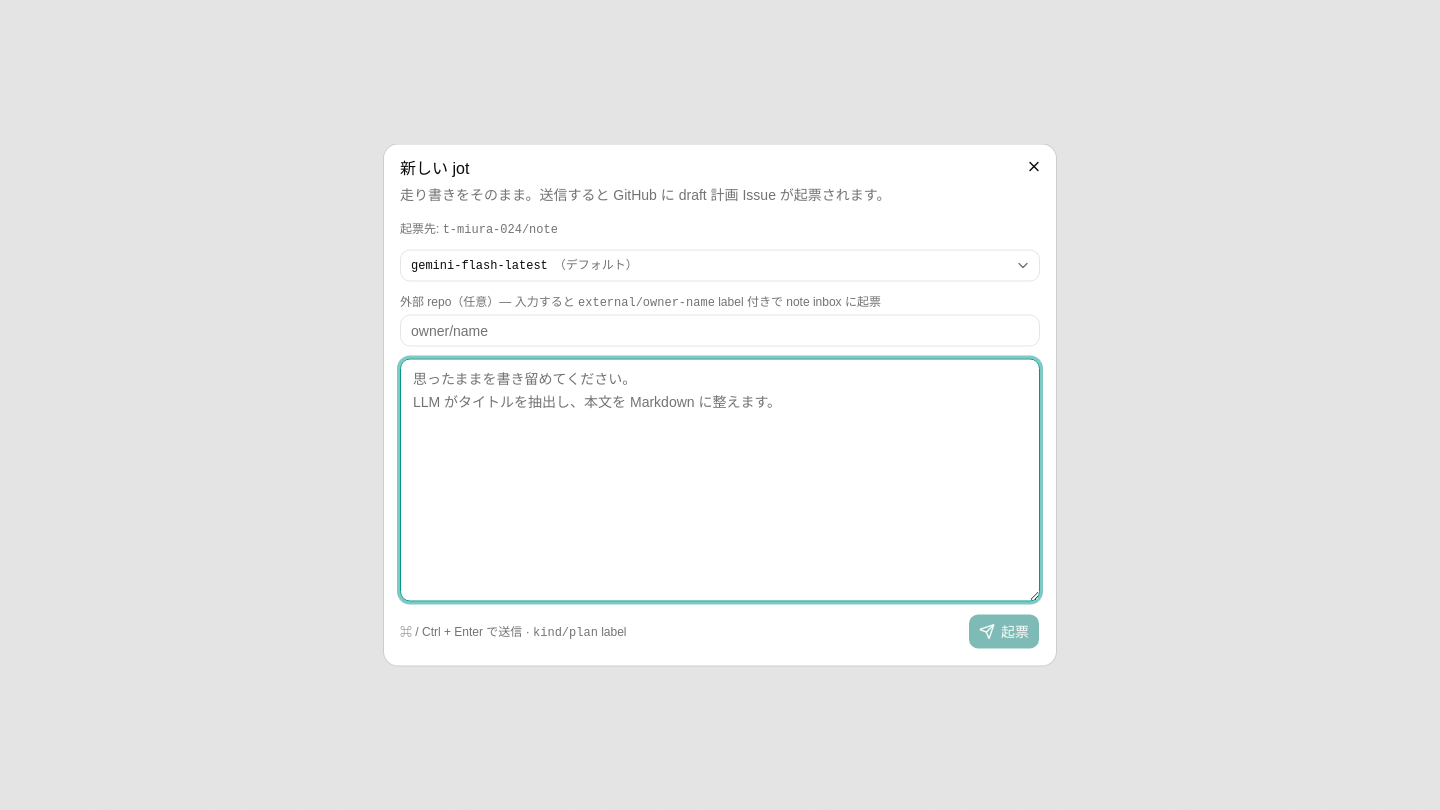
Test: JotDialog — 外部 repo 入力の表示条件 › note inbox + 有効な外部 repo 入力は external label 付きの表示になる
Type "other-org/some-repo" into the field named "外部 repo（owner/name 形式）" at (720, 330), box [400,314,1040,346]
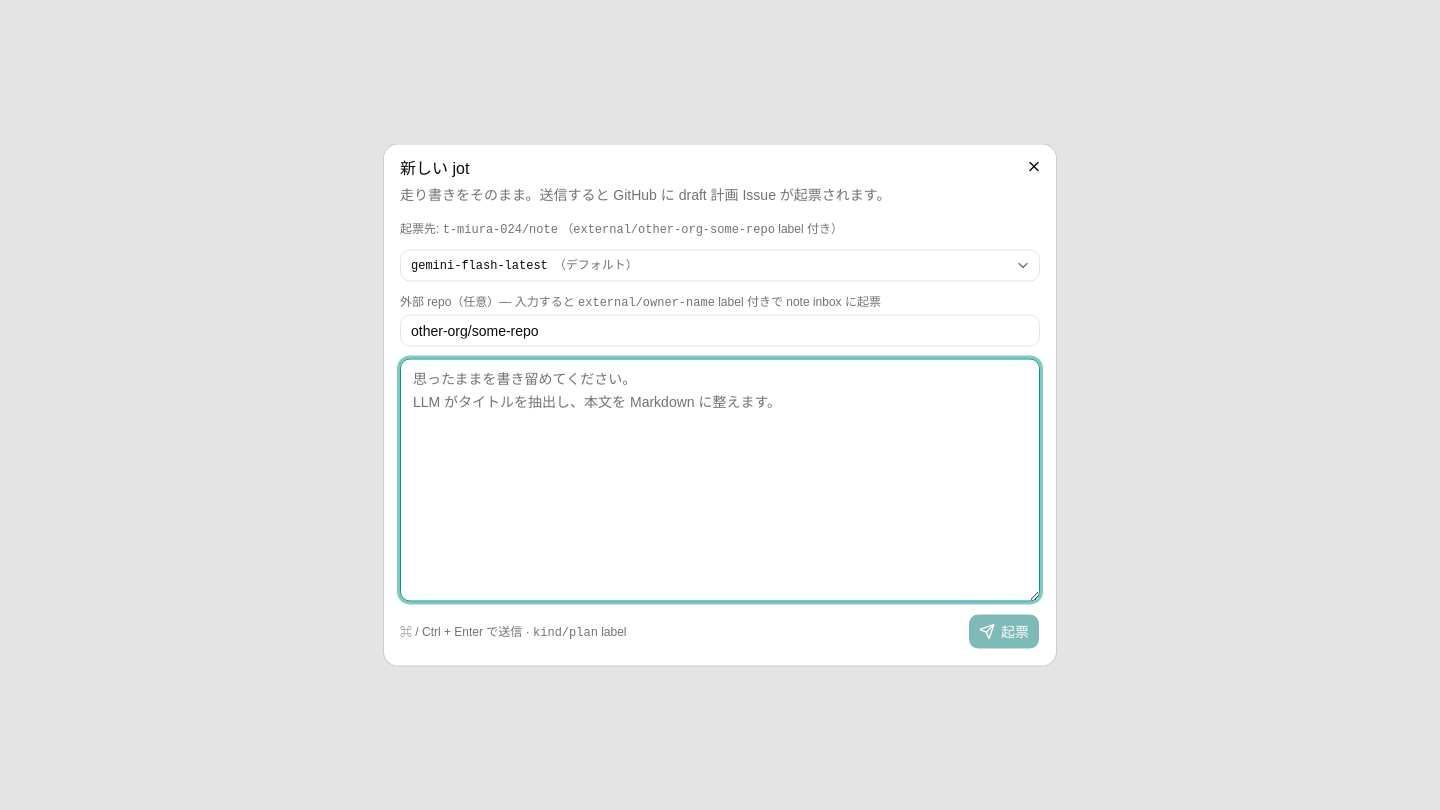
Expected: the text "external/other-org-some-repo" is shown, [573,222,775,236]
